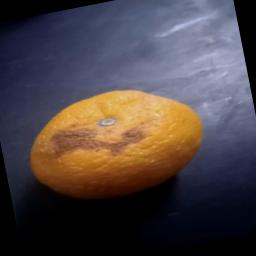Orange Unripe: (18, 72, 215, 214)
